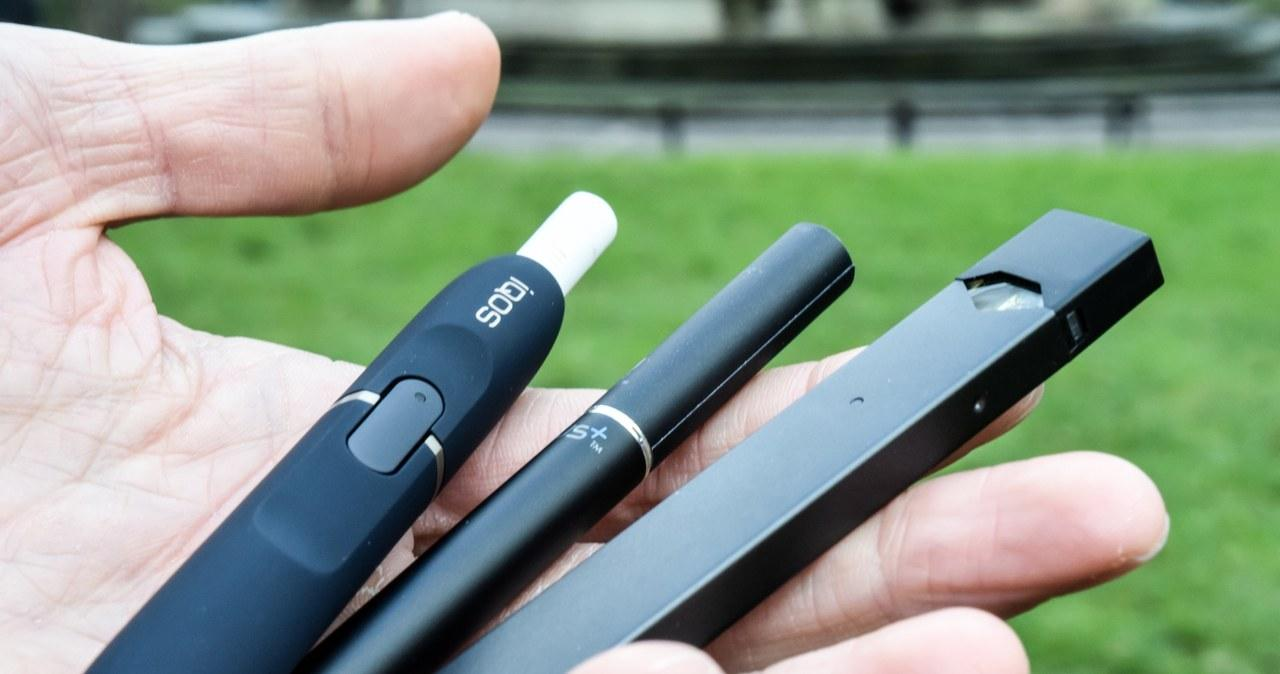Vape: (441, 210, 1162, 673)
cigarette: (300, 224, 854, 673)
iqos: (89, 192, 616, 673)
